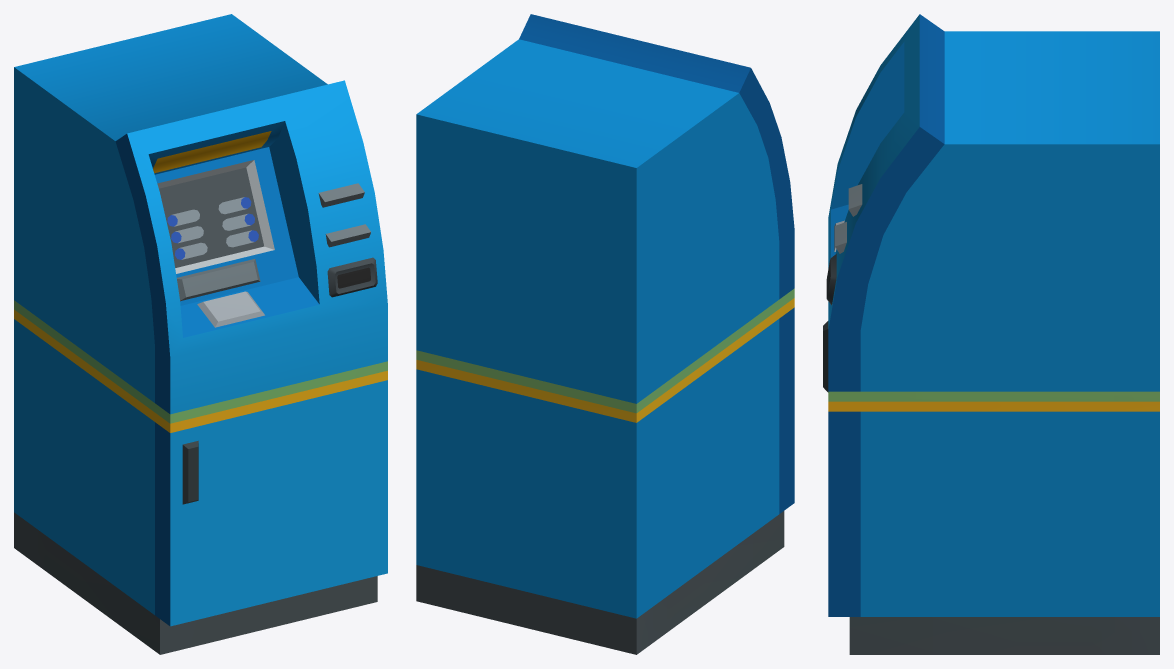
File: ATM_01.glb
3 views of the same model, side by side, from view 1: azimuth 30°, elevation 25°; view 2: azimuth 150°, elevation 25°; view 3: azimuth 270°, elevation 25° (orthographic). The views are drawn at different scales.
Visible parts, largest first — view 1: ATM_01; view 2: ATM_01; view 3: ATM_01.
Boxes of the visible parts, box(x1,y1,x2,y2) form: ATM_01: box(14, 14, 387, 654); ATM_01: box(416, 14, 794, 654); ATM_01: box(823, 14, 1159, 654).
Size of the model in its own units: 0.7923 by 1.73 by 0.9999.
2 materials, 2 textured.
